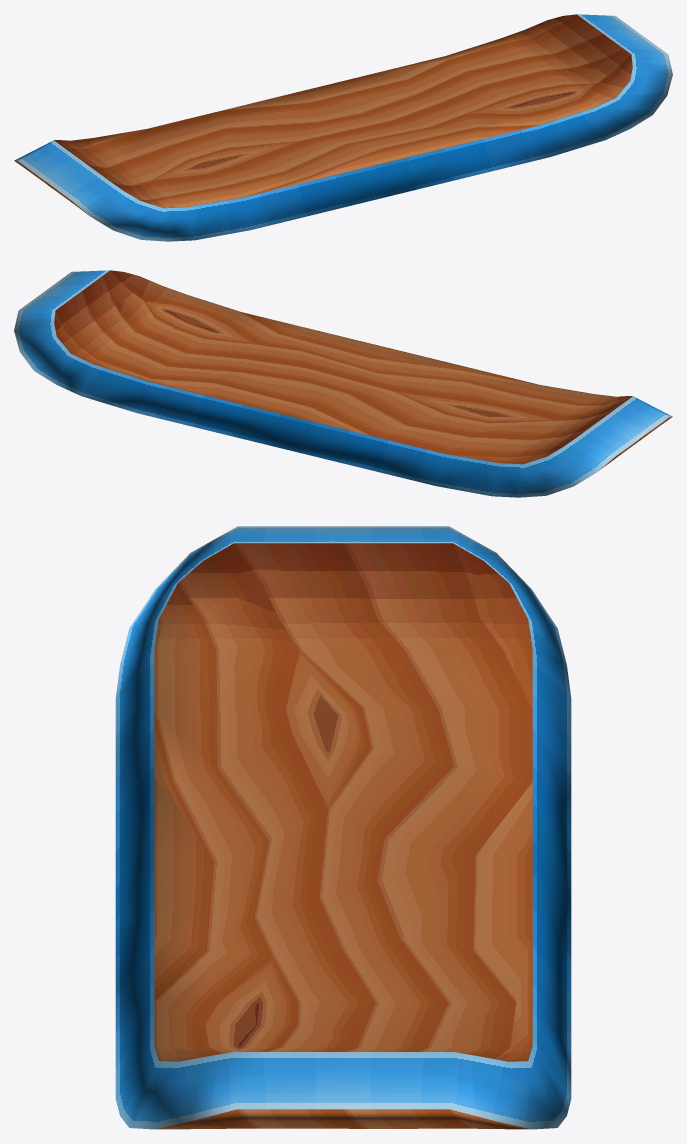
The model's file is TreeHugger.glb.
3 views of the same model, one above another, from view 1: azimuth 30°, elevation 25°; view 2: azimuth 150°, elevation 25°; view 3: azimuth 270°, elevation 25° (orthographic). The views are drawn at different scales.
Visible parts, largest first — view 1: TreeHugger; view 2: TreeHugger; view 3: TreeHugger.
Part boxes in pixels (box(x1,y1,x2,y2)): TreeHugger: box(14, 14, 672, 241); TreeHugger: box(14, 270, 672, 497); TreeHugger: box(115, 526, 571, 1129).
Size of the model in its own units: 8.35 by 0.729 by 2.76.
Materials: 1 (1 with a texture image).
